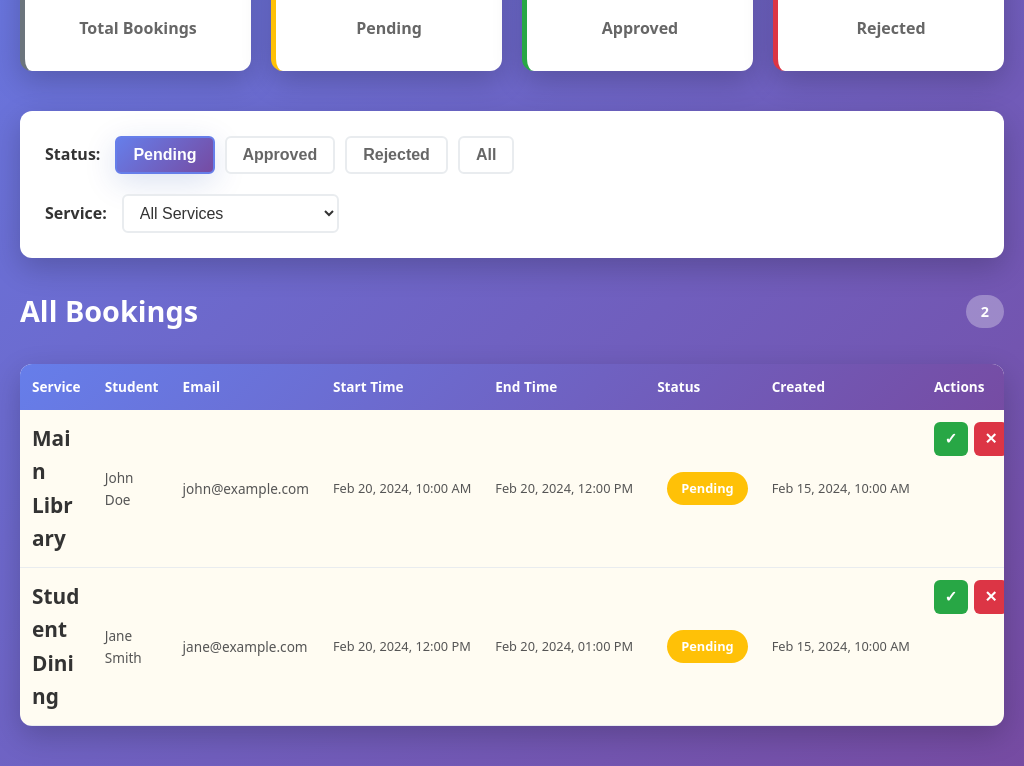
Scenario: AdminDashboard Page Component › opens modal when approve button is clicked
(page scrolled)
Click the button titled "Approve booking" in the row of "Main Library" at (951, 439), box [934,422,968,456]
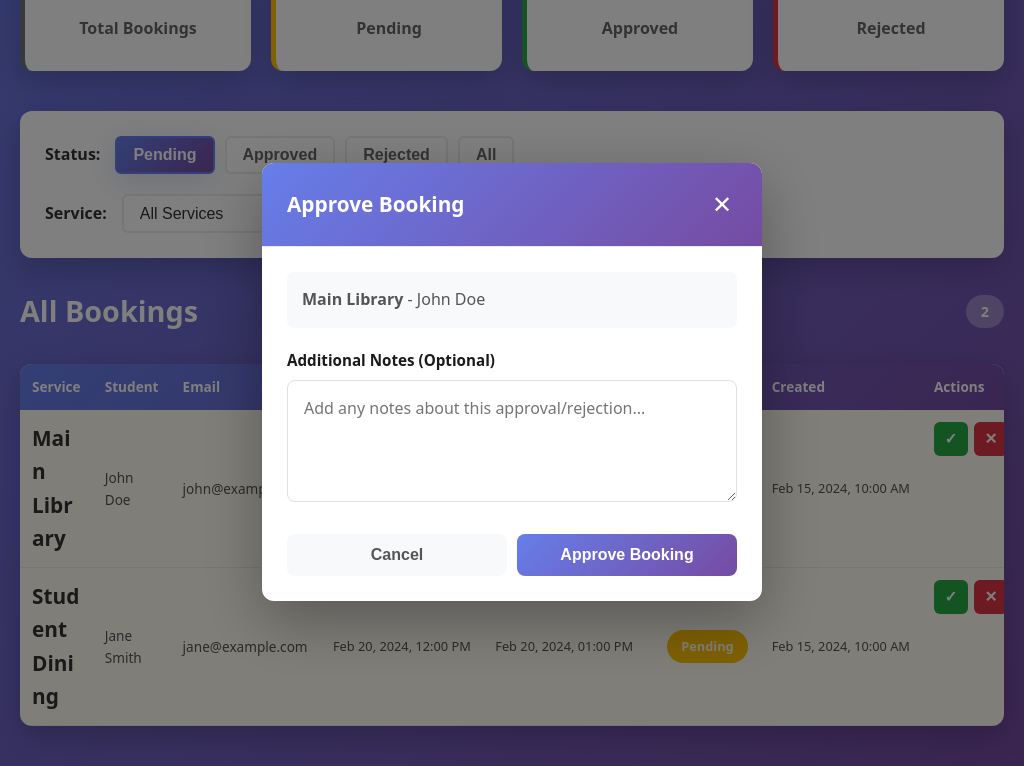
Now the heading "Approve Booking" is shown, box [287,188,464,221]
